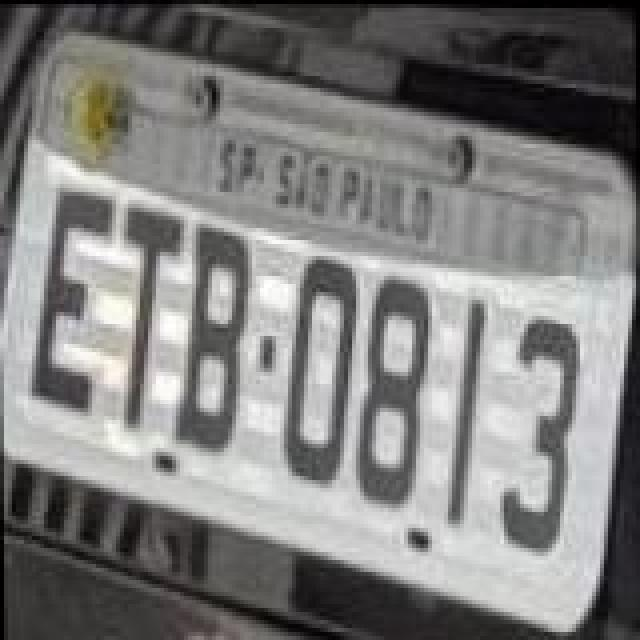1: (438, 296, 494, 528)
3: (494, 314, 582, 554)
8: (354, 270, 434, 502)
B: (168, 224, 256, 456)
E: (24, 184, 120, 416)
O: (278, 252, 362, 484)
T: (118, 204, 186, 428)
